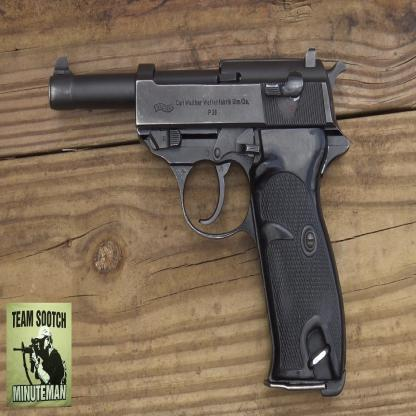Pistol: (47, 44, 350, 398)
